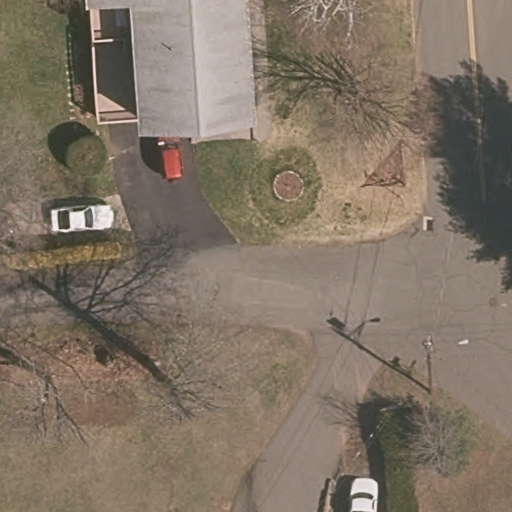DT: (409, 323, 445, 404)
